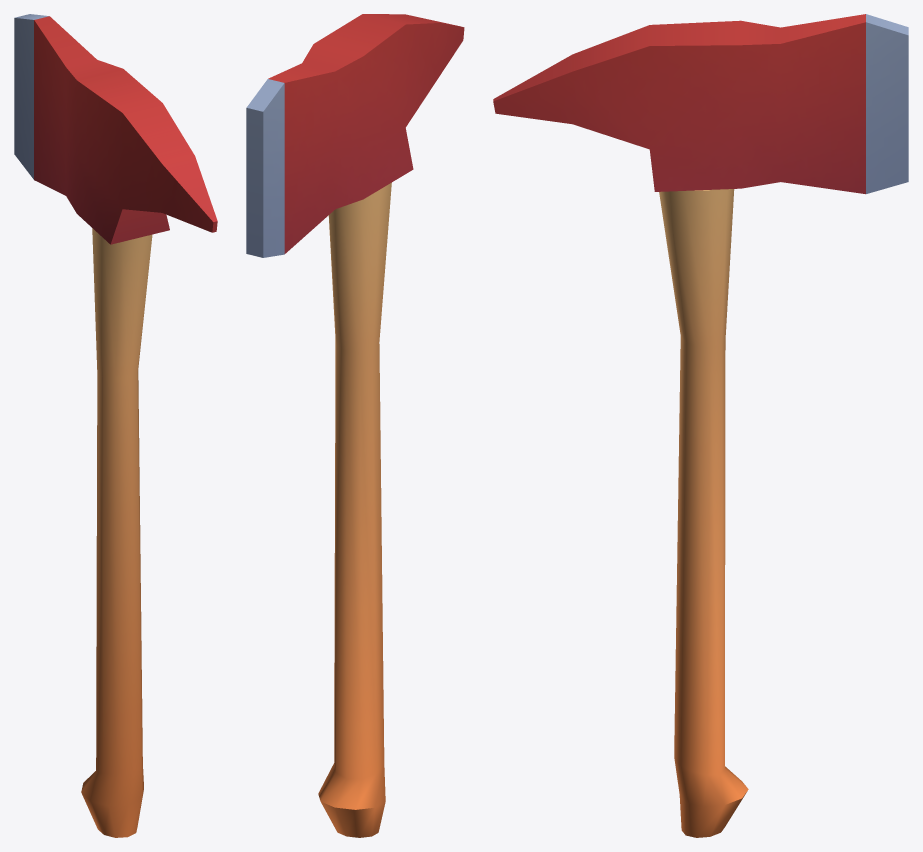
Rendered from FireAxe.fbx.
The picture shows the model from 3 angles, left to right: view 1: azimuth 30°, elevation 25°; view 2: azimuth 150°, elevation 25°; view 3: azimuth 270°, elevation 25°; orthographic projection. The views are drawn at different scales.
Parts seen in each view (by area): view 1: Axe; view 2: Axe; view 3: Axe.
Part boxes in pixels (x1,y1,x2,y2): Axe: (14, 14, 217, 837); Axe: (246, 14, 464, 837); Axe: (493, 14, 908, 837).
Bounding box in the file's own units: 7.29 × 88.43 × 41.01.
